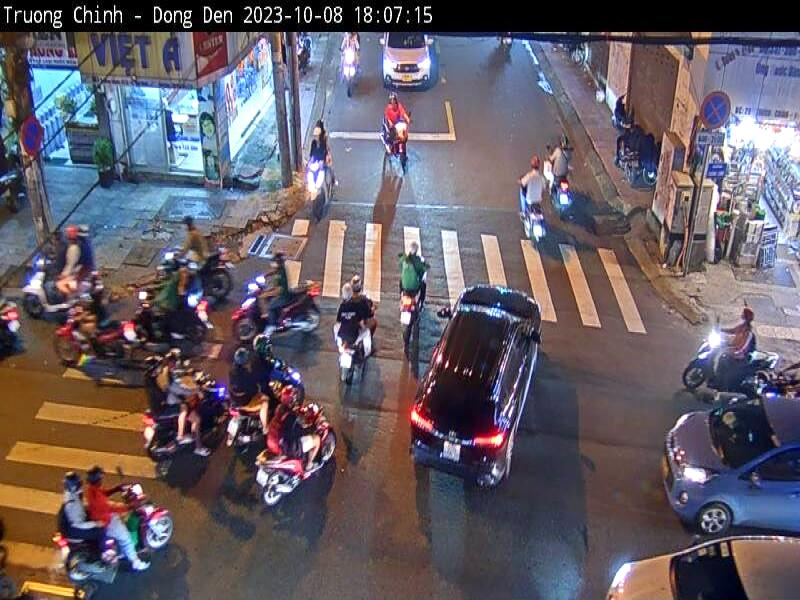car: (412, 284, 541, 487), (661, 392, 800, 534), (606, 535, 800, 600), (371, 32, 436, 91)
motorcycle: (59, 478, 178, 593), (258, 397, 331, 511), (687, 324, 775, 399)
